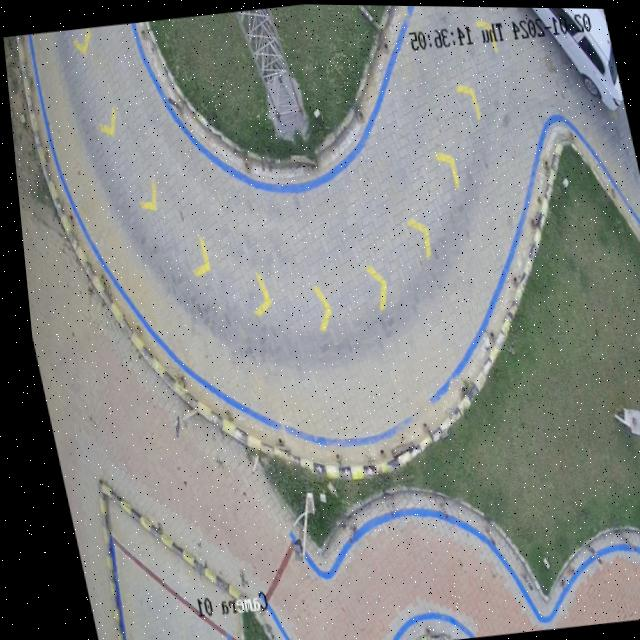car: (530, 6, 623, 109)
